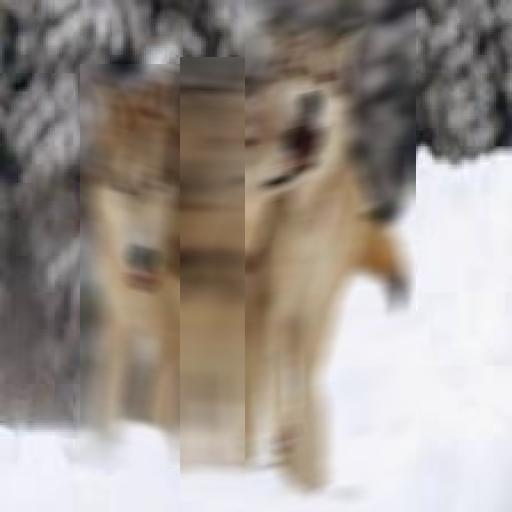wolf: (245, 0, 416, 512), (180, 57, 303, 501), (80, 64, 189, 469)
